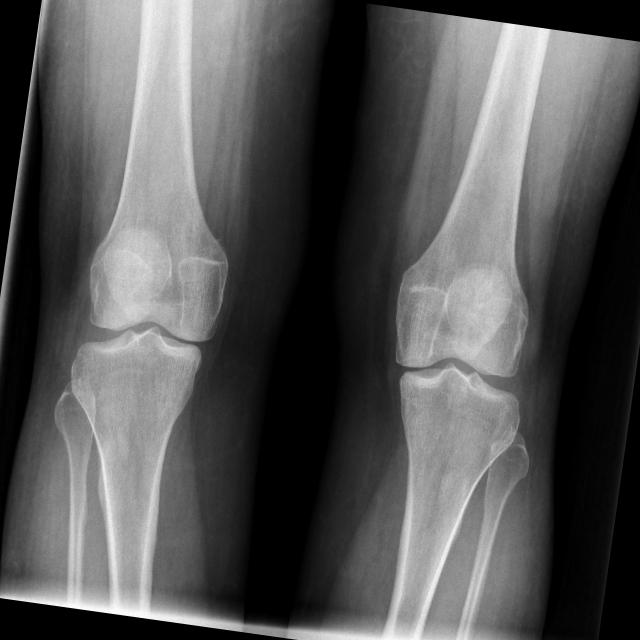Knee: (373, 281, 540, 455), (63, 252, 232, 423)
